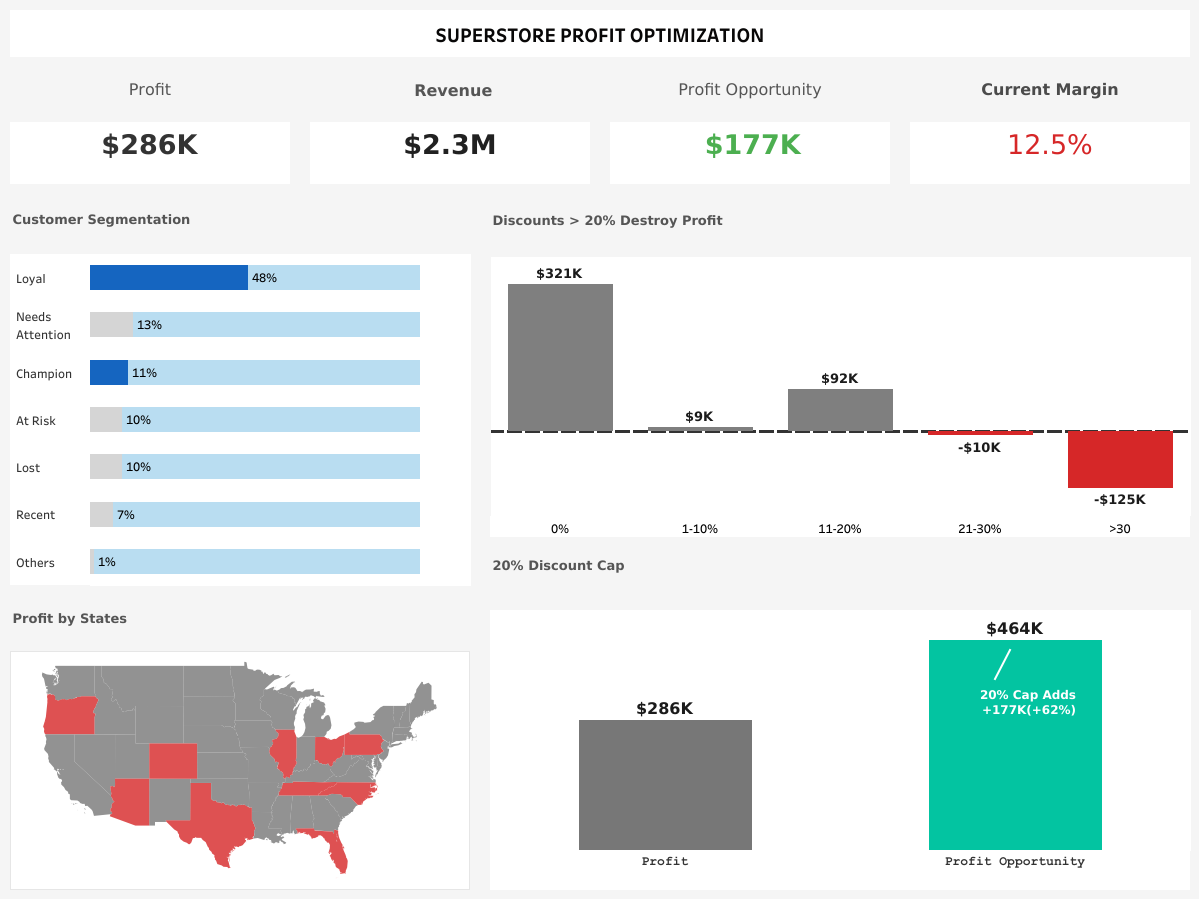

The page's visual inventory and layout, read from the dashboard file:
{"tool":"tableau","page":{"name":"SUPERSTORE PROFIT OPTIMIZATION","canvas":[1200,900],"ordinal":0},"visuals":[{"type":"text","box":[0,0,1200,67]},{"type":"text","box":[0,67,300,44.7]},{"type":"text","box":[300,67,300,45]},{"type":"text","box":[600,67,300,45]},{"type":"text","box":[900,67,300,45]},{"type":"worksheet","title":"profit","mark":"Polygon","box":[0,111.7,300,82.3]},{"type":"worksheet","title":"sales","mark":"Automatic","box":[300,111.7,300,82.3]},{"type":"worksheet","title":"opportunity","mark":"Polygon","box":[600,111.7,300,82.3]},{"type":"worksheet","title":"margin ","mark":"Polygon","box":[900,111.7,300,82.3]},{"type":"text","box":[0,194,480,50.5]},{"type":"text","box":[480,194,720,52.5]},{"type":"worksheet","title":"segement ","mark":"Bar","rows":["F1"],"cols":["F4","Calculation_1549238313776357394"],"box":[0,244.5,480,350.5]},{"type":"worksheet","title":"Discount Impact ","mark":"Automatic","rows":["Profit"],"cols":["Discount RANGE (copy)_1549238313015865360"],"box":[480,246.5,720,300.5]},{"type":"text","box":[480,547,720,37]},{"type":"text","box":[0,594.9,480,46]},{"type":"worksheet","title":"optimized","mark":"Automatic","box":[480,600,720,300]},{"type":"worksheet","title":"Profit by States","mark":"Automatic","box":[0,640.9,480,259]}]}

Visuals, with their boxes in screenshot pixels (x1, y1, x2, y2), scaled from the page's 1200x900 canvas onto the 1199x899 screenshot:
text: bbox=[0, 0, 1198, 67]
text: bbox=[0, 67, 300, 112]
text: bbox=[300, 67, 600, 112]
text: bbox=[600, 67, 899, 112]
text: bbox=[899, 67, 1198, 112]
"profit" worksheet (Polygon marks): bbox=[0, 112, 300, 194]
"sales" worksheet: bbox=[300, 112, 600, 194]
"opportunity" worksheet (Polygon marks): bbox=[600, 112, 899, 194]
"margin " worksheet (Polygon marks): bbox=[899, 112, 1198, 194]
text: bbox=[0, 194, 480, 244]
text: bbox=[480, 194, 1198, 246]
"segement " worksheet (Bar marks): bbox=[0, 244, 480, 594]
"Discount Impact " worksheet: bbox=[480, 246, 1198, 546]
text: bbox=[480, 546, 1198, 583]
text: bbox=[0, 594, 480, 640]
"optimized" worksheet: bbox=[480, 599, 1198, 898]
"Profit by States" worksheet: bbox=[0, 640, 480, 898]
